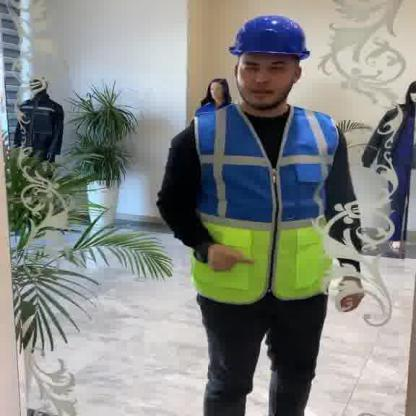helmet: (228, 14, 311, 61)
vest: (191, 103, 335, 307), (355, 104, 415, 251), (14, 92, 66, 170)
